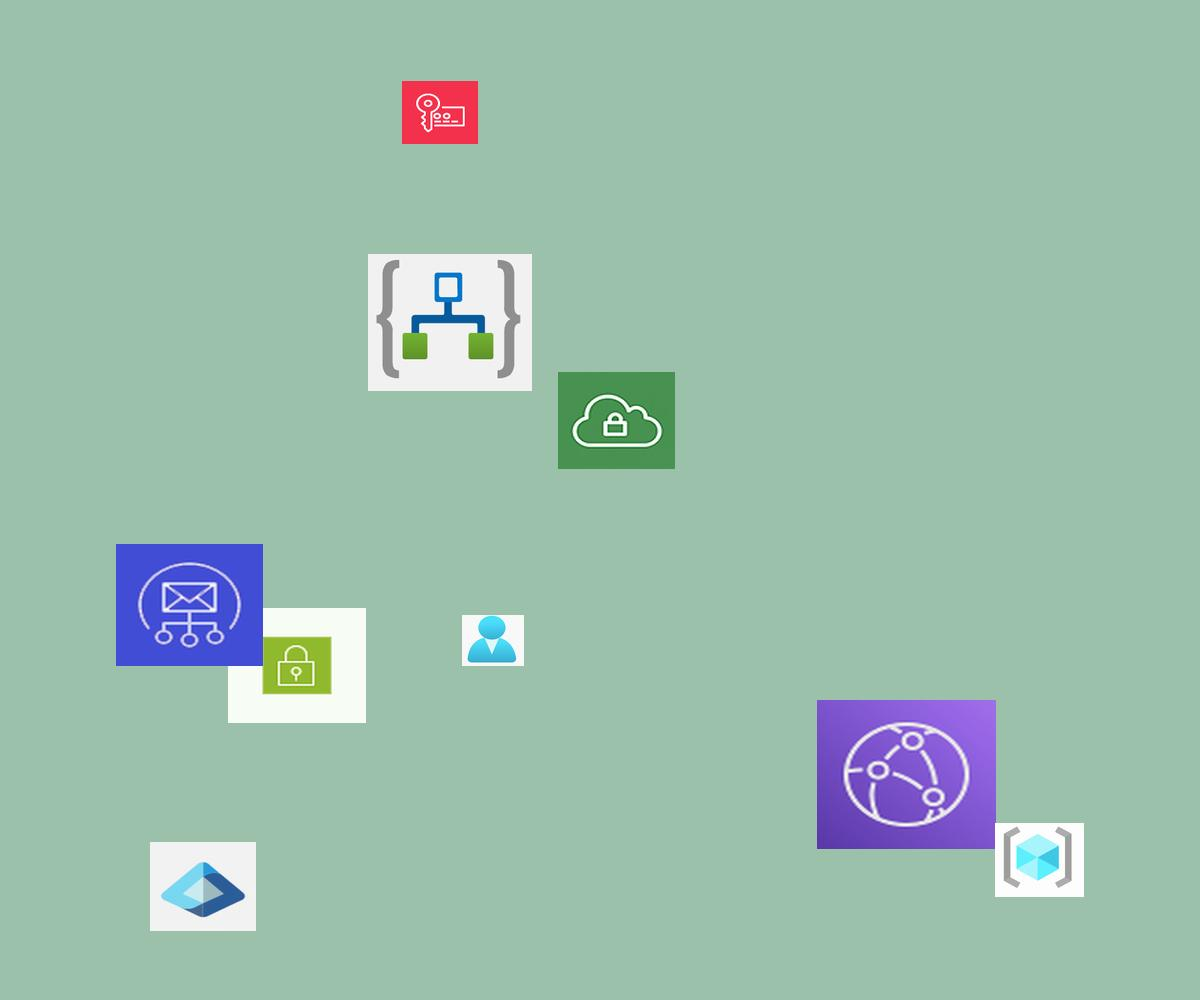AWS-CloudFront: (817, 700, 996, 849)
AWS-Key-Management-Service: (402, 81, 478, 144)
AWS-Private_vpc: (558, 372, 675, 469)
AWS-Public-subnet: (228, 608, 366, 723)
AWS-Simple-Email-Service: (116, 544, 263, 666)
Azure_integration-204-Logic-Apps: (368, 254, 532, 391)
Azure_microsoft_entra: (150, 842, 256, 931)
Azure_resource_group: (995, 823, 1084, 897)
Azure_users: (462, 615, 524, 666)
